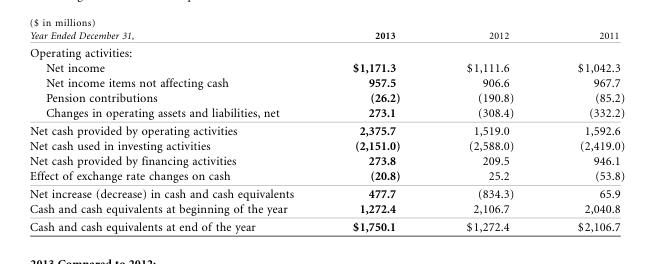table: (29, 29, 624, 233)
table column: (29, 29, 322, 233), (432, 29, 544, 233), (322, 29, 432, 233), (544, 29, 624, 233)
table column header: (29, 29, 624, 43)
table projected row header: (29, 43, 624, 59)
table row: (29, 121, 624, 138), (29, 184, 624, 201), (29, 43, 624, 59), (29, 74, 624, 90), (29, 105, 624, 121), (29, 168, 624, 184), (29, 201, 624, 217), (29, 217, 624, 233), (29, 59, 624, 74), (29, 90, 624, 105), (29, 138, 624, 153), (29, 153, 624, 168), (29, 29, 624, 43)
